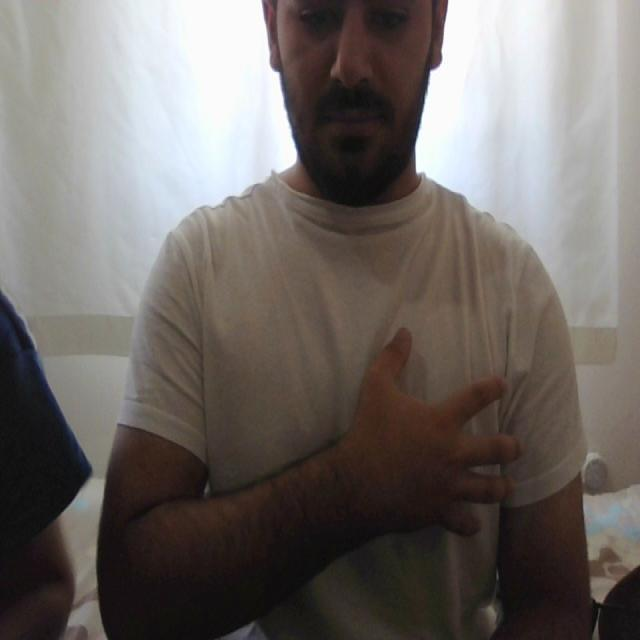Anne: (186, 310, 530, 562)
